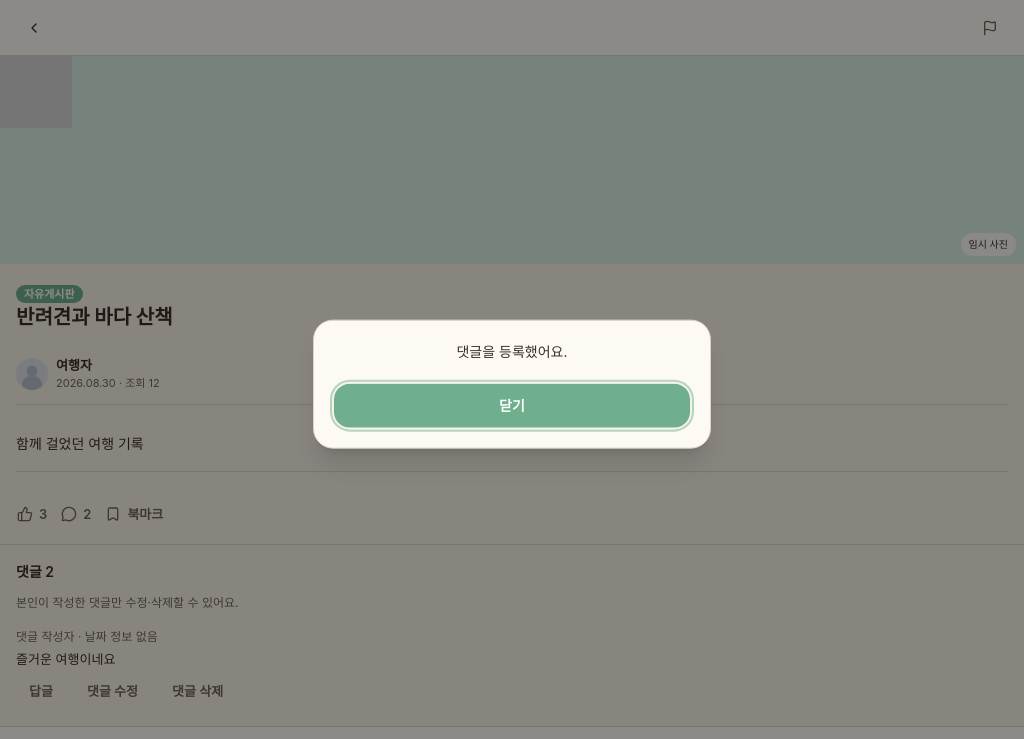
live community board › preserves comments on failure and prevents duplicate submission
This screenshot has width=1024, height=739.
Earlier steps of the test are not shown.
Later steps or results of the test are not shown.
Click the button "닫기". click: (512, 405)
box: [334,383,690,427]
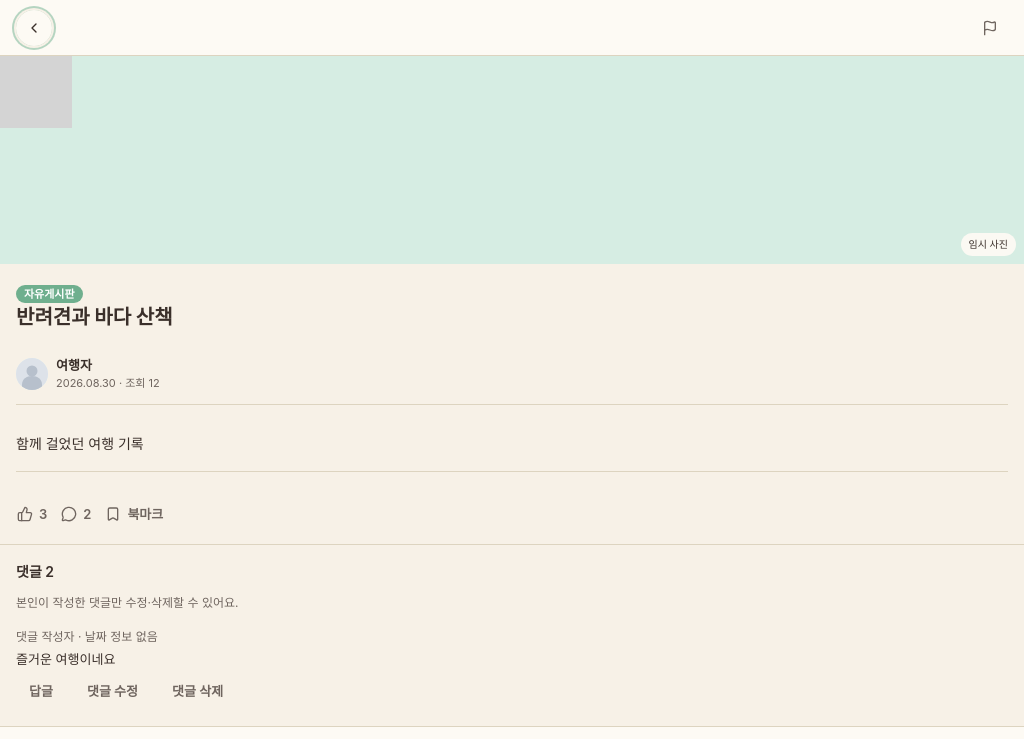
Expected: the heading "댓글 2" is shown, [16,563,54,580]
Expected: the text "즐거운 여행이네요" is shown, [16,651,115,667]
